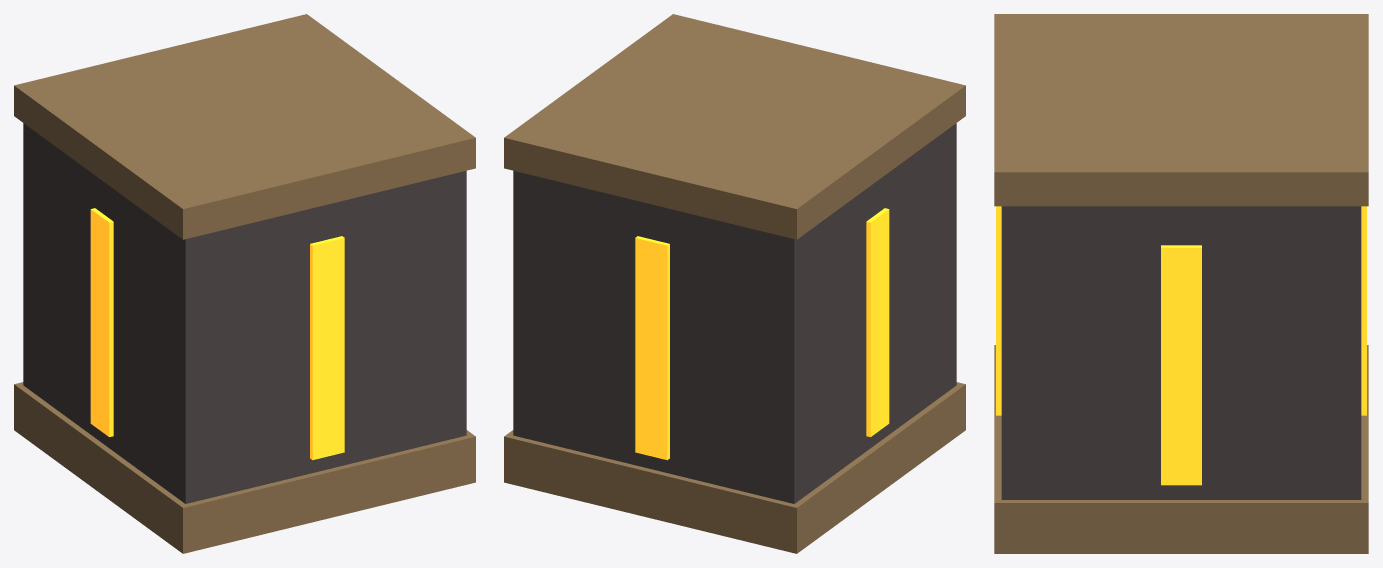
Rendered from solid-wall-magma.glb.
3 renders of one model, left to right at view 1: azimuth 30°, elevation 25°; view 2: azimuth 150°, elevation 25°; view 3: azimuth 270°, elevation 25°, orthographic. The views are drawn at different scales.
Parts seen in each view (by area): view 1: Magma_Wall_Body, Magma_Wall_Top, Magma_Wall_Base, Magma_Conduit_180, Magma_Conduit_270; view 2: Magma_Wall_Body, Magma_Wall_Top, Magma_Wall_Base, Magma_Conduit_0, Magma_Conduit_270; view 3: Magma_Wall_Body, Magma_Wall_Top, Magma_Wall_Base, Magma_Conduit_90, Magma_Conduit_0, Magma_Conduit_180.
Part boxes in pixels (box(x1,y1,x2,y2)): Magma_Wall_Body: box(23, 123, 466, 503); Magma_Wall_Top: box(14, 14, 475, 239); Magma_Wall_Base: box(14, 382, 475, 553); Magma_Conduit_180: box(310, 236, 344, 460); Magma_Conduit_270: box(90, 208, 113, 436); Magma_Wall_Body: box(513, 123, 956, 503); Magma_Wall_Top: box(504, 14, 965, 239); Magma_Wall_Base: box(504, 382, 965, 553); Magma_Conduit_0: box(635, 236, 669, 460); Magma_Conduit_270: box(866, 208, 889, 436); Magma_Wall_Body: box(1001, 206, 1361, 499); Magma_Wall_Top: box(994, 14, 1368, 206); Magma_Wall_Base: box(994, 345, 1368, 553); Magma_Conduit_90: box(1161, 245, 1201, 485); Magma_Conduit_0: box(1361, 206, 1366, 415); Magma_Conduit_180: box(996, 206, 1001, 415).
Bounding box in the file's own units: 2 × 2.25 × 2.
